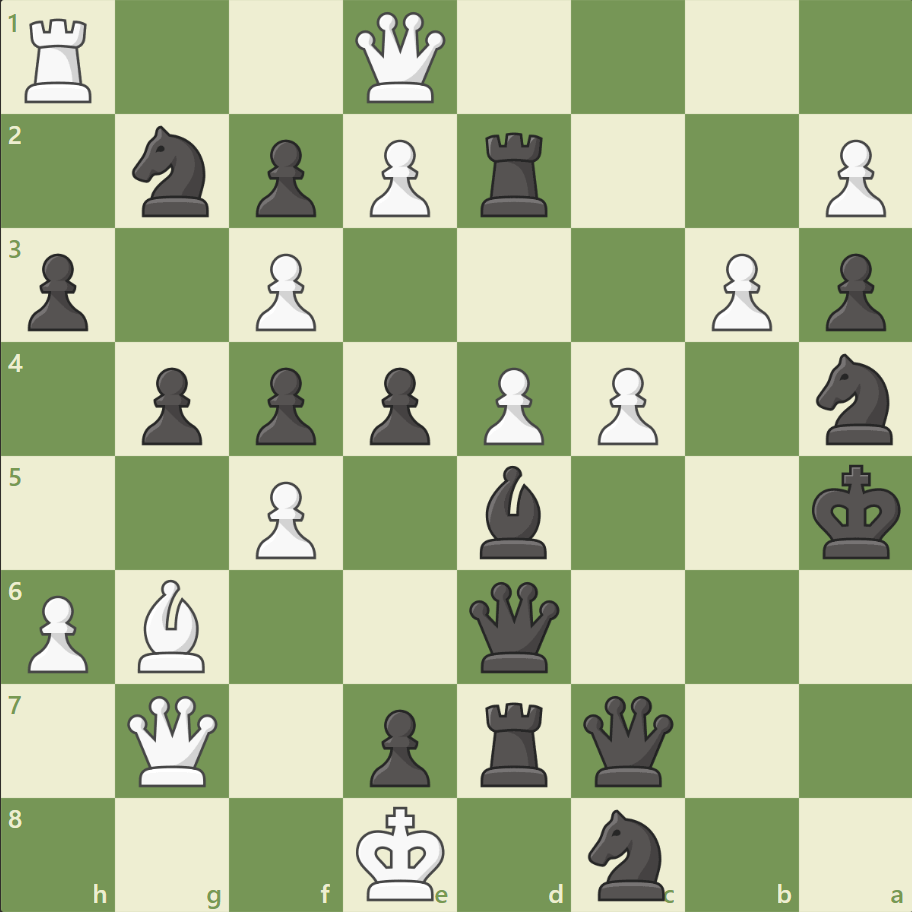B: (131, 574, 215, 676)
K: (351, 798, 451, 906)
P: (20, 586, 95, 677), (247, 473, 322, 564), (474, 359, 549, 450), (701, 246, 776, 337), (247, 246, 322, 337), (588, 359, 662, 450), (815, 132, 889, 223), (361, 132, 435, 223)
Q: (124, 690, 223, 789), (351, 9, 450, 108)
R: (19, 12, 102, 109)
b: (471, 460, 555, 563)
k: (806, 458, 906, 566)
n: (124, 121, 222, 223), (579, 802, 676, 904), (806, 348, 903, 450)
p: (247, 359, 322, 450), (133, 359, 208, 450), (20, 246, 95, 337), (247, 132, 322, 223), (361, 700, 435, 791), (361, 359, 435, 450), (815, 246, 889, 337)
q: (464, 576, 563, 676), (578, 690, 677, 789)
r: (473, 693, 556, 790), (473, 125, 556, 222)
